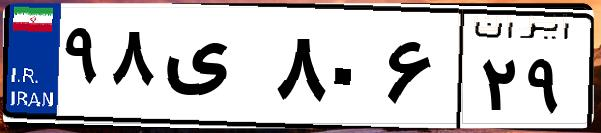0: (330, 28, 385, 110)
2: (475, 38, 525, 113)
6: (385, 28, 445, 110)
8: (270, 28, 330, 110), (110, 28, 158, 98)
9: (57, 26, 110, 100), (525, 38, 570, 115)
ی: (158, 20, 270, 120)
